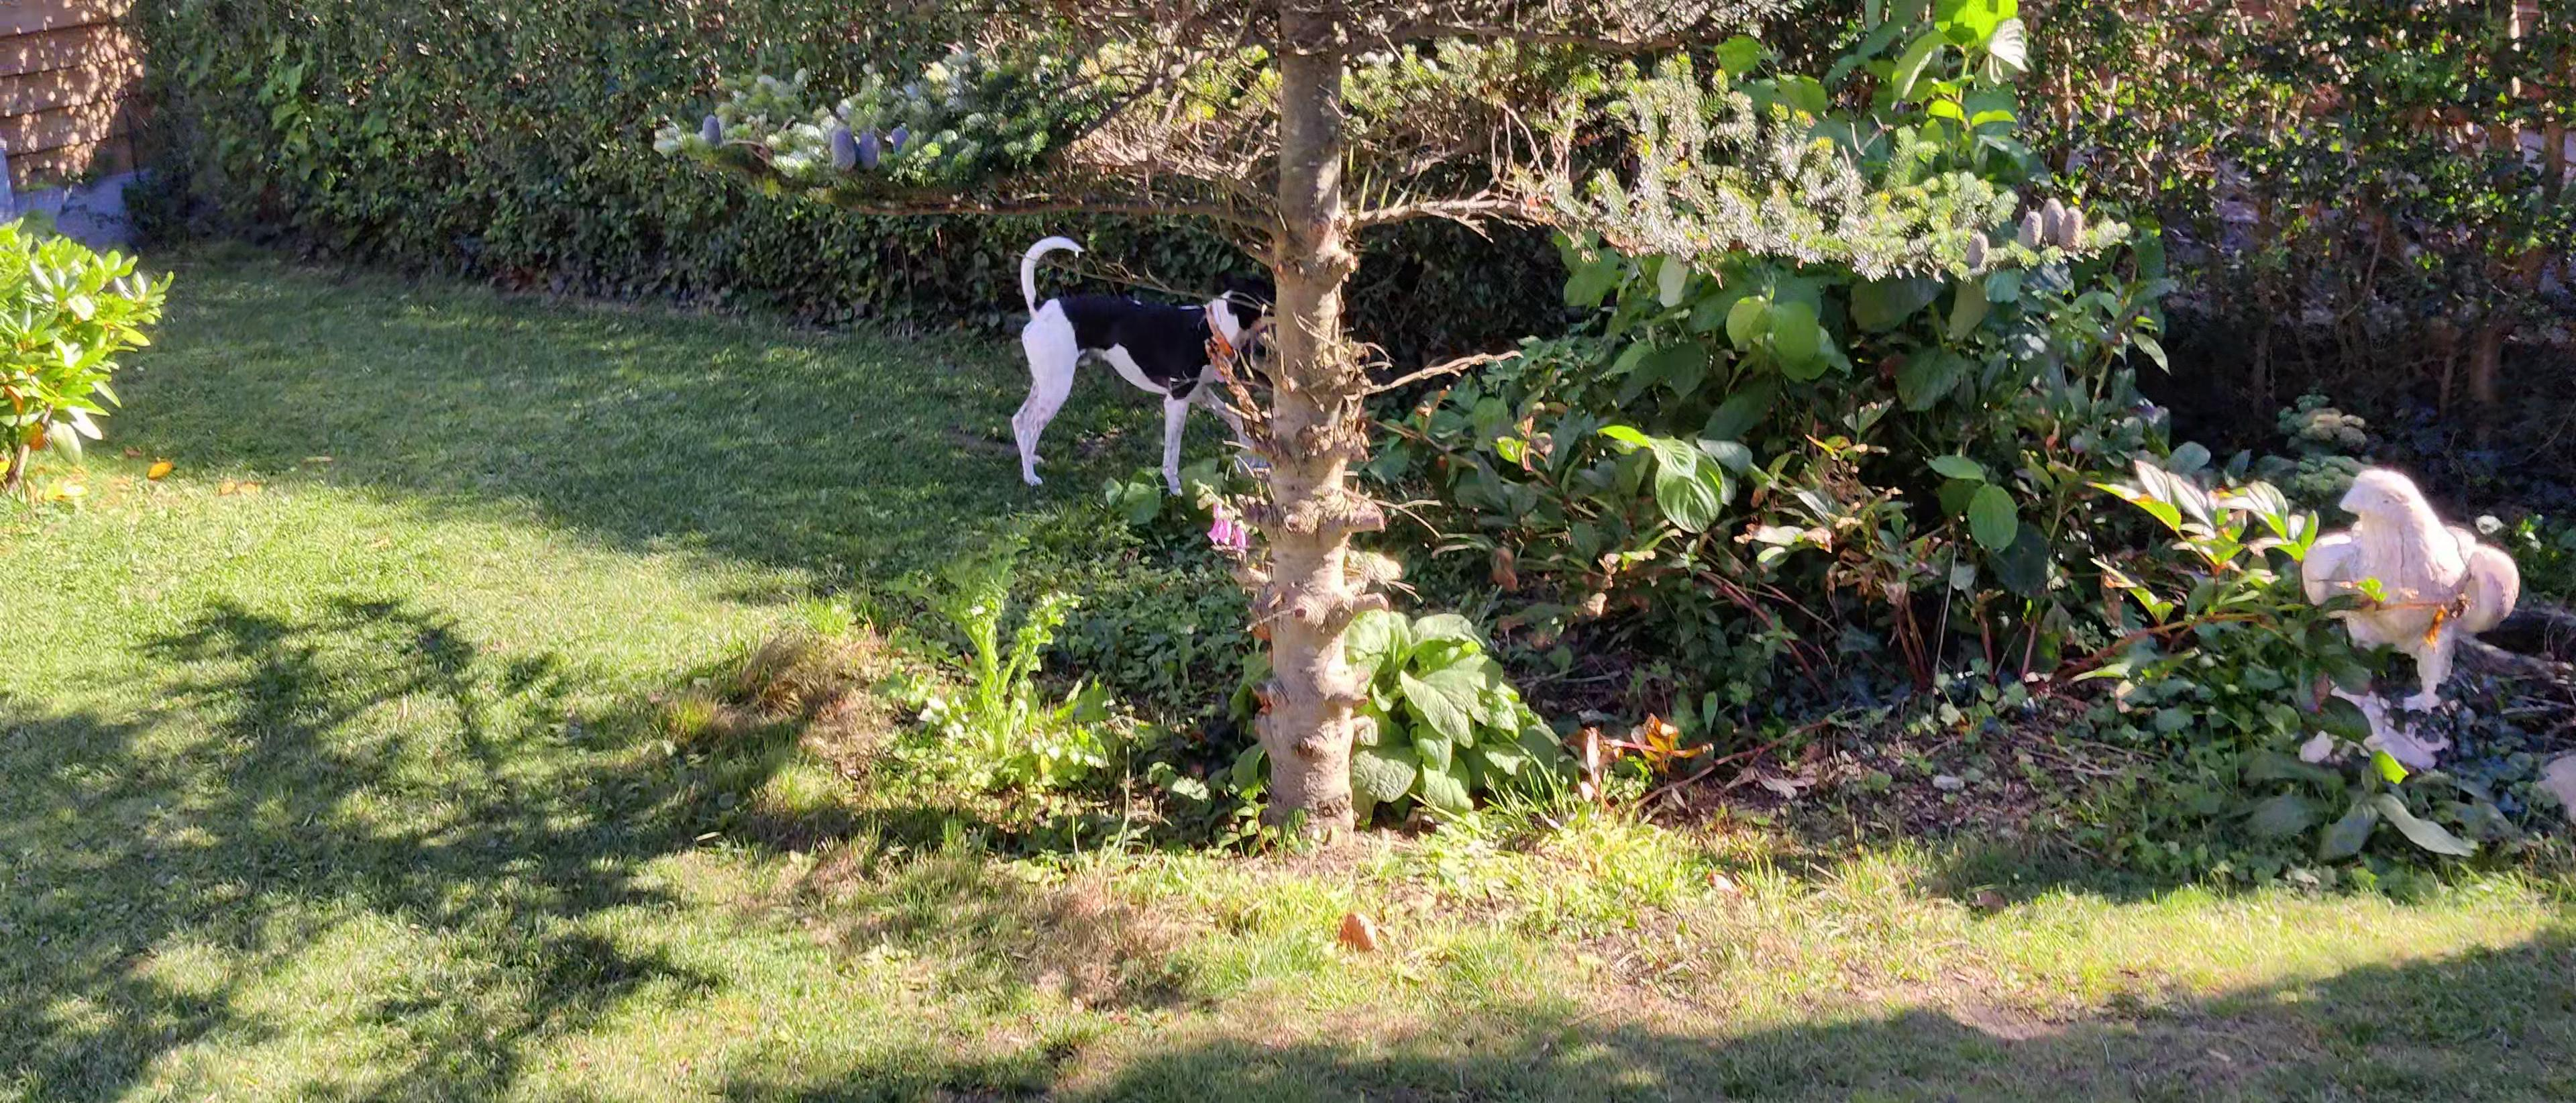Dog: (1007, 233, 1286, 501)
